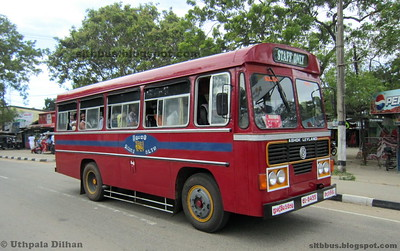bus: (54, 42, 337, 234)
